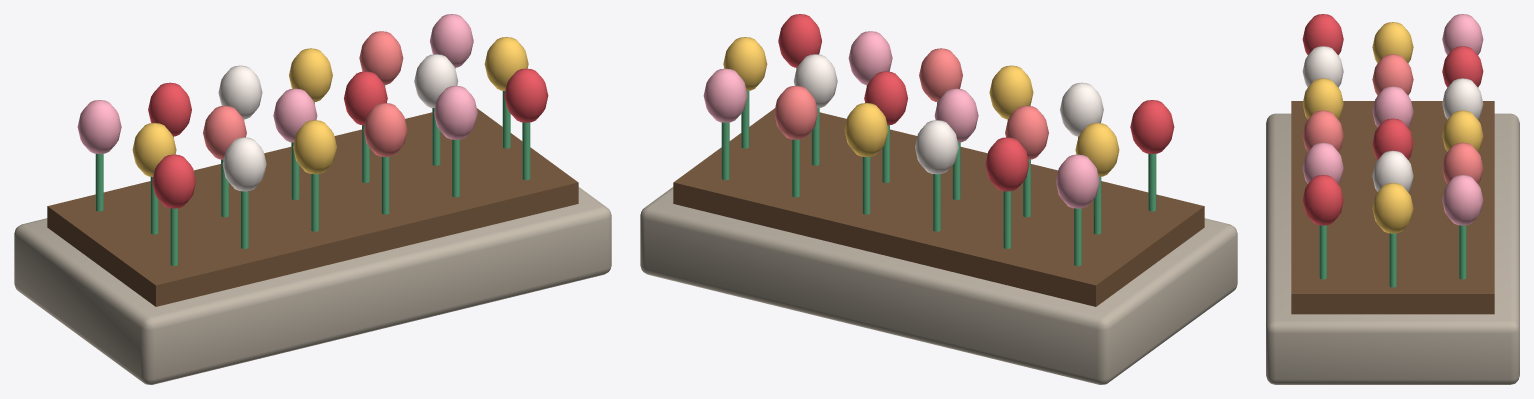
File: flower_bed.glb
3 views of the same model, side by side, from view 1: azimuth 30°, elevation 25°; view 2: azimuth 150°, elevation 25°; view 3: azimuth 270°, elevation 25° (orthographic). The views are drawn at different scales.
Visible parts, largest first — view 1: flower_bed; view 2: flower_bed; view 3: flower_bed.
Boxes of the visible parts, x1,y1,x2,y2 form: flower_bed: (14,14,611,384); flower_bed: (640,14,1237,384); flower_bed: (1266,14,1519,384).
Size of the model in its own units: 1.6 by 0.6445 by 0.8.
